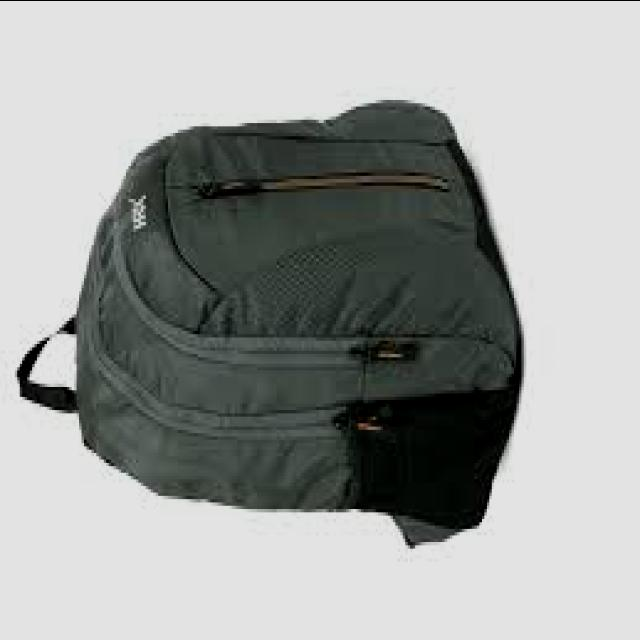backpack: (16, 100, 522, 552)
